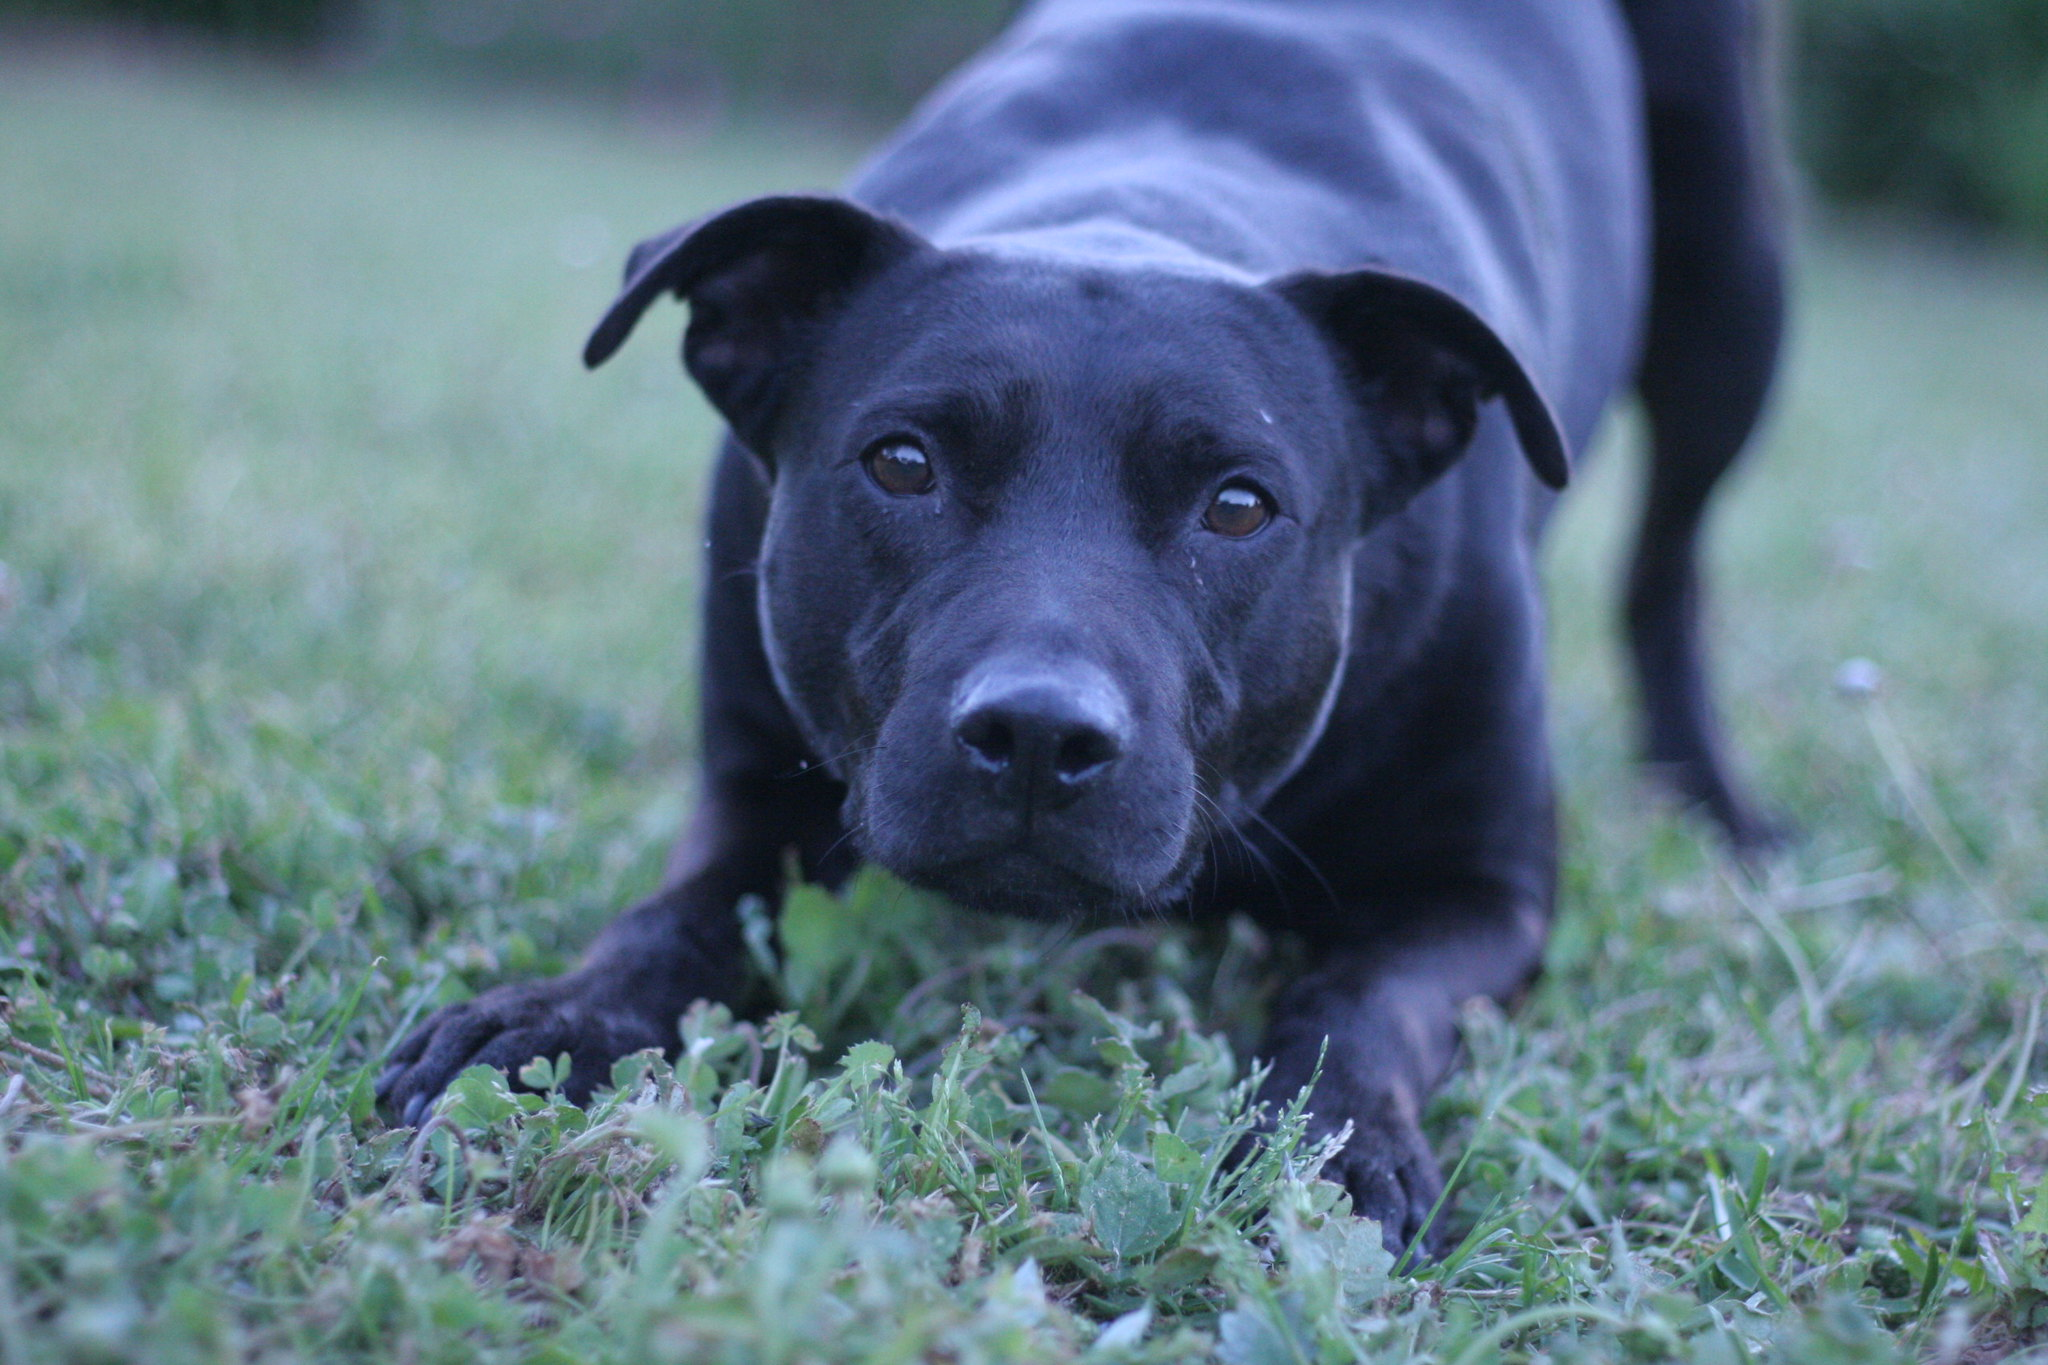dog: (405, 3, 1804, 1264)
